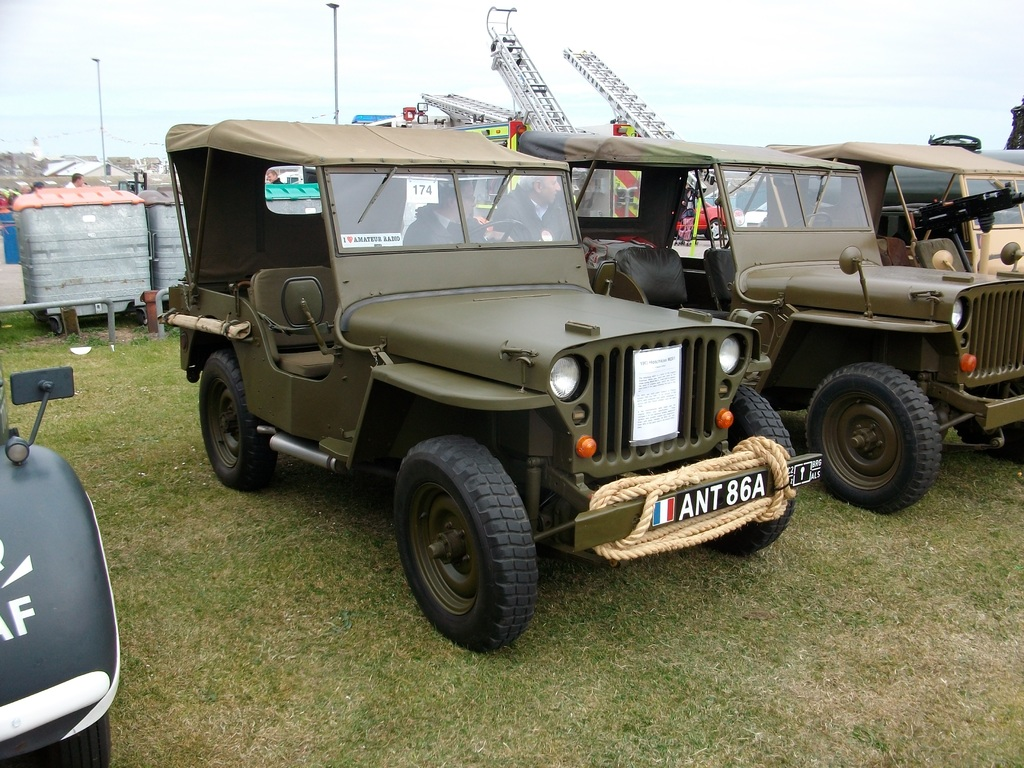mobil: (171, 169, 808, 653)
